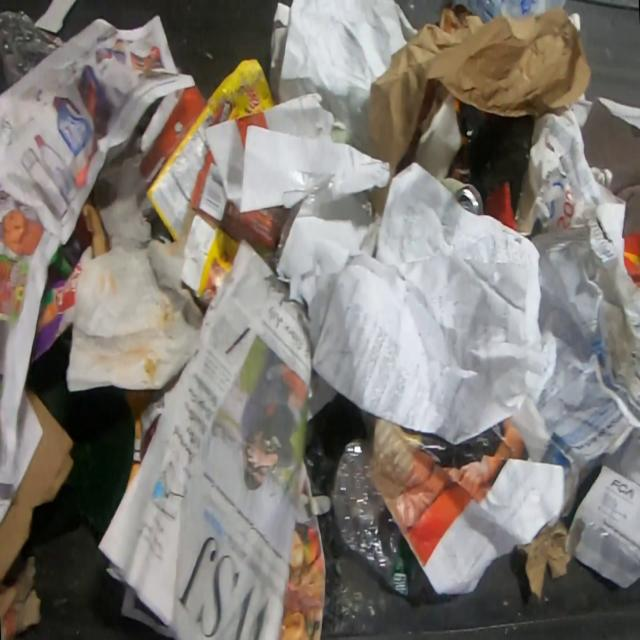cardboard: (137, 56, 288, 311), (0, 383, 75, 640), (518, 505, 576, 598)
metal: (440, 177, 484, 215)
rigid_plastic: (332, 439, 430, 597)
soft_plastic: (0, 9, 64, 95)
